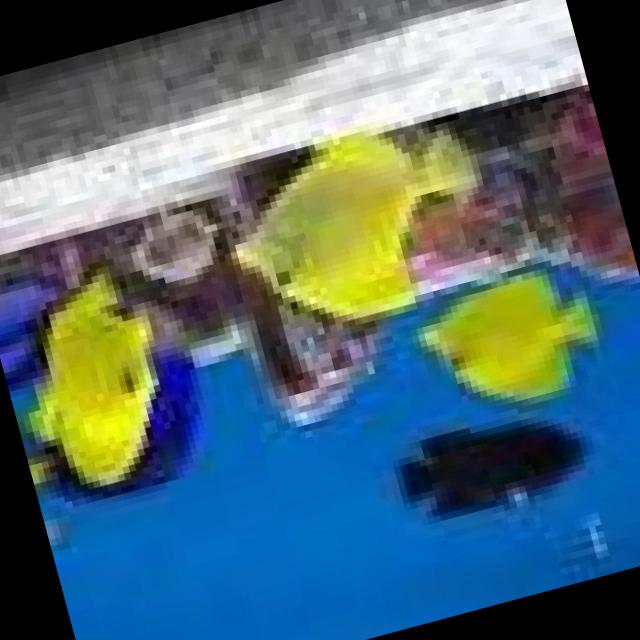YellowTang: (201, 97, 509, 360), (402, 246, 628, 452)
